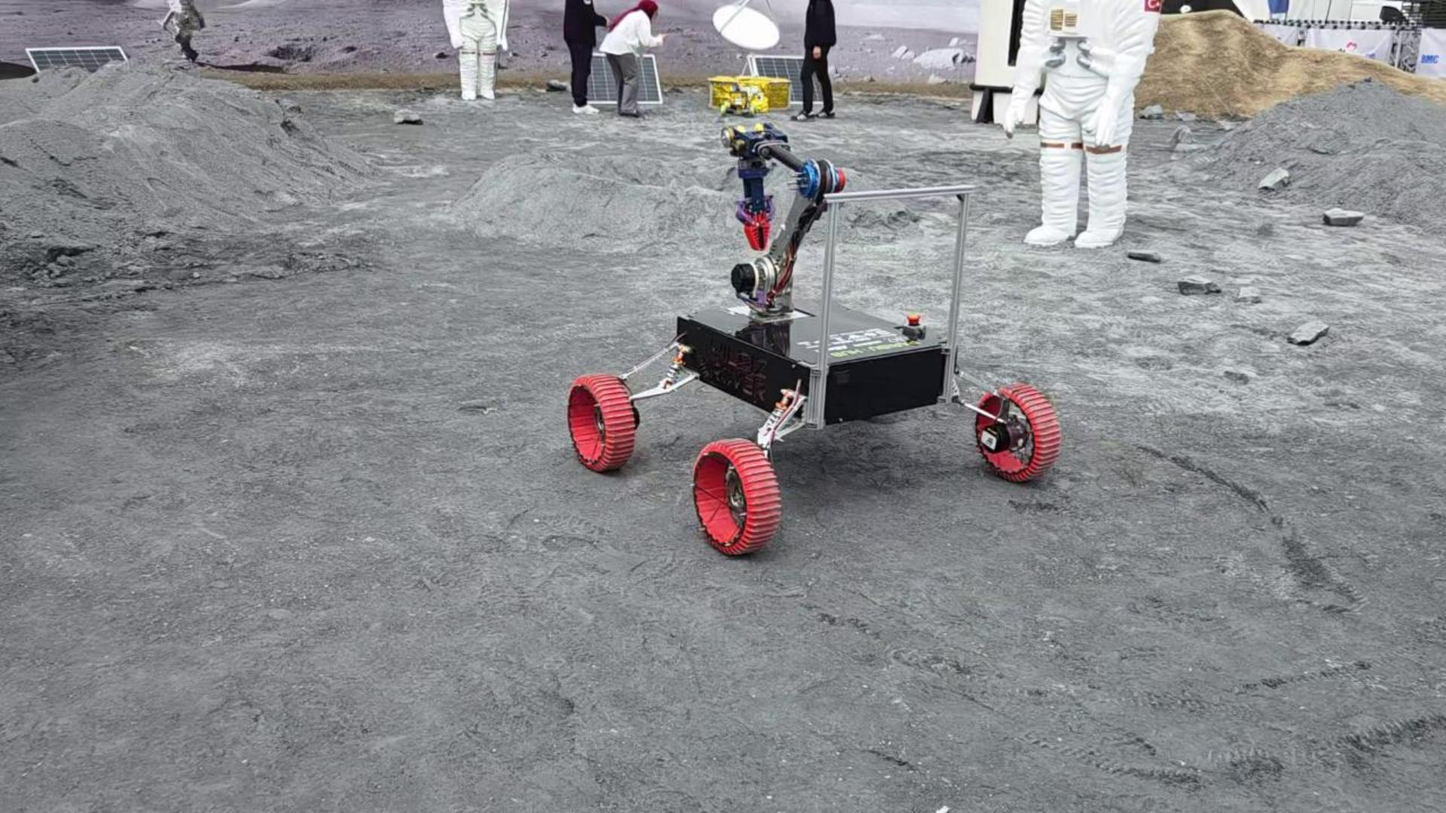rock: (1287, 321, 1329, 344), (1177, 276, 1221, 295), (1258, 167, 1289, 191), (1323, 208, 1364, 226), (1168, 125, 1191, 148), (393, 108, 423, 124), (1138, 104, 1164, 119), (1126, 251, 1161, 262), (546, 79, 569, 93)
